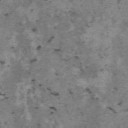oxide scale of temperature system: (30, 78, 122, 128), (0, 28, 61, 64), (0, 92, 14, 115), (4, 12, 9, 18), (74, 56, 80, 60)
